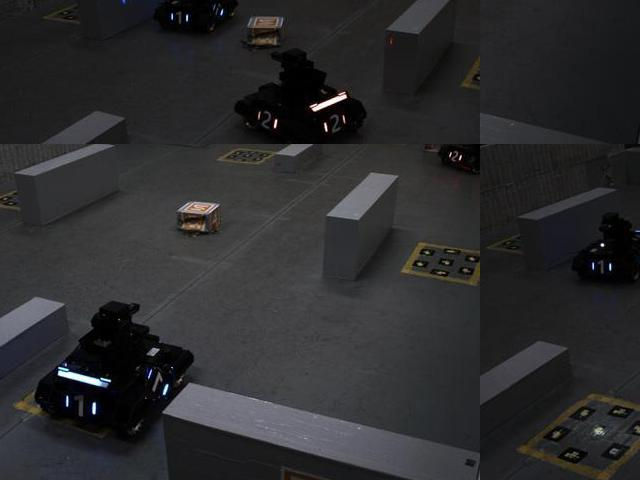armor: (58, 386, 101, 425), (253, 102, 282, 138), (146, 368, 175, 401), (320, 109, 350, 138), (592, 253, 614, 279), (165, 9, 191, 27), (210, 0, 231, 20), (443, 148, 465, 167)
